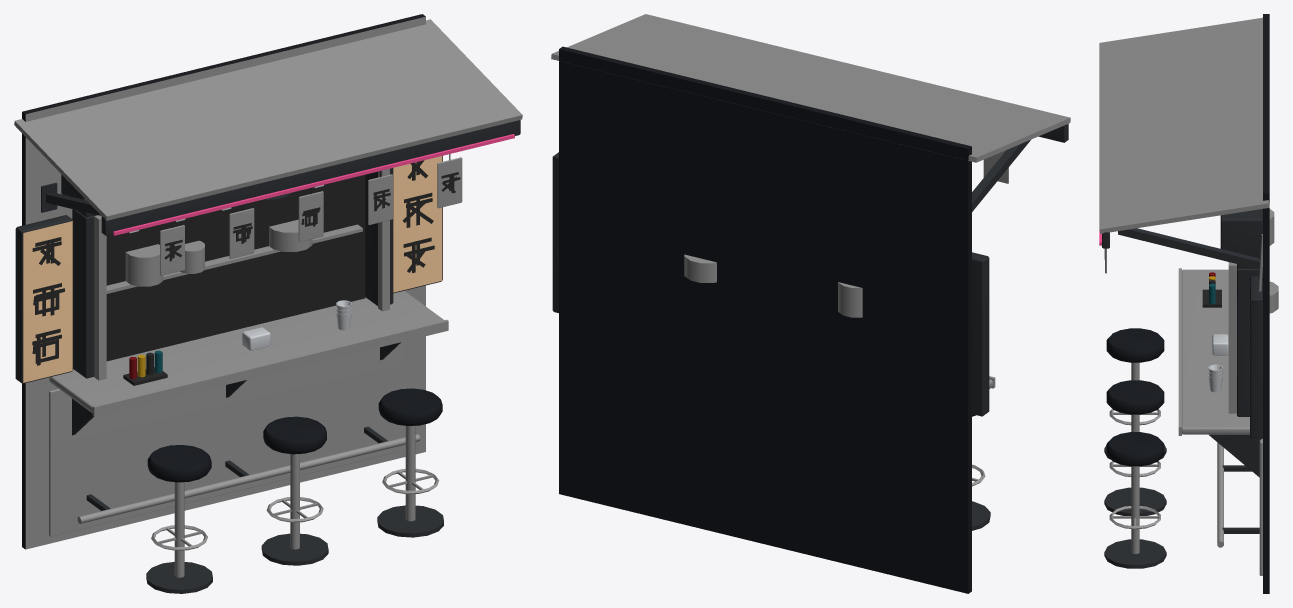
File: Street_Food_Counter.fbx
The picture shows the model from 3 angles, left to right: view 1: azimuth 30°, elevation 25°; view 2: azimuth 150°, elevation 25°; view 3: azimuth 270°, elevation 25°; orthographic projection. The views are drawn at different scales.
Visible parts, largest first — view 1: Street_Food_Counter_LOD0; view 2: Street_Food_Counter_LOD0; view 3: Street_Food_Counter_LOD0.
Part boxes in pixels (x1,y1,x2,y2): Street_Food_Counter_LOD0: [14, 14, 522, 593]; Street_Food_Counter_LOD0: [551, 14, 1070, 593]; Street_Food_Counter_LOD0: [1099, 14, 1278, 593].
Size of what is drawn, in the model's own units: 2.74 by 2.7 by 1.09.
